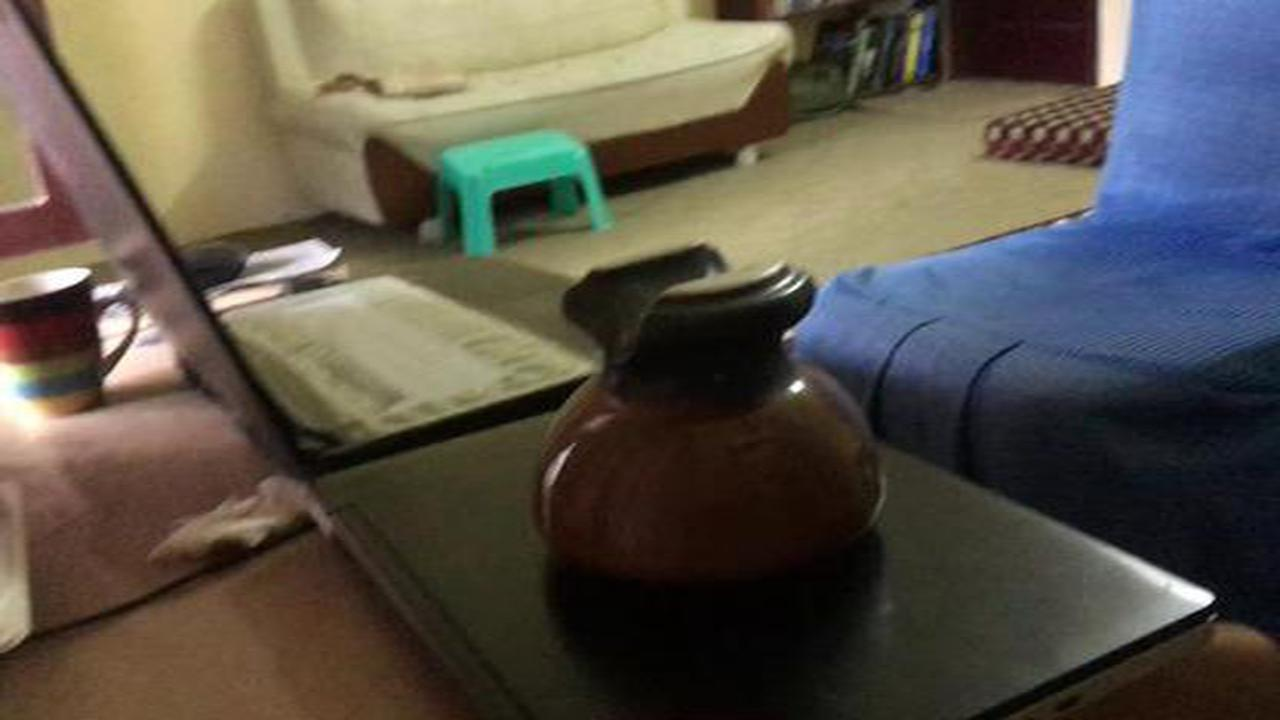insulator_pin: (521, 234, 899, 611)
